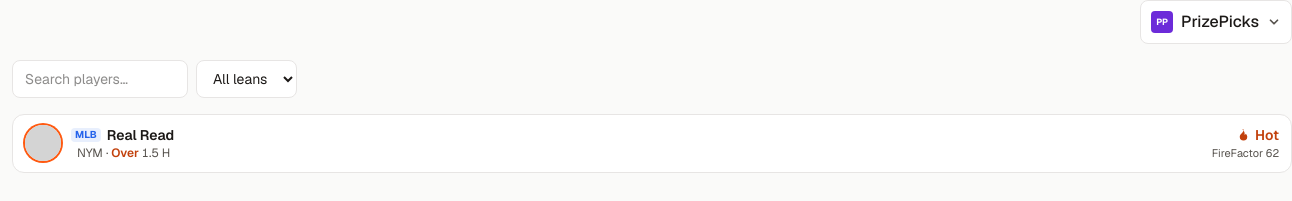
Scenario: AllBoardExplorer book selection › still blames the filters when the filters really are the cause
Expected: the text "Real Read" is shown, [107, 125, 174, 145]
Search for a name nothing matches — now the filters really are the reason.
Type "zzz" into the search field labelled "Search players…" at (100, 79), box [12, 60, 188, 98]
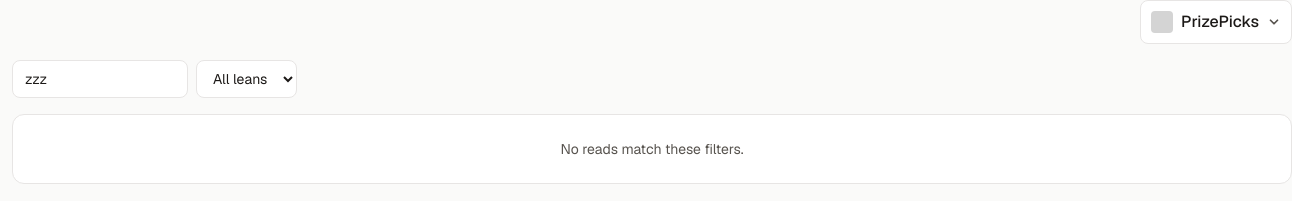
Expected: the message shows "match these filters", [560, 140, 744, 158]
